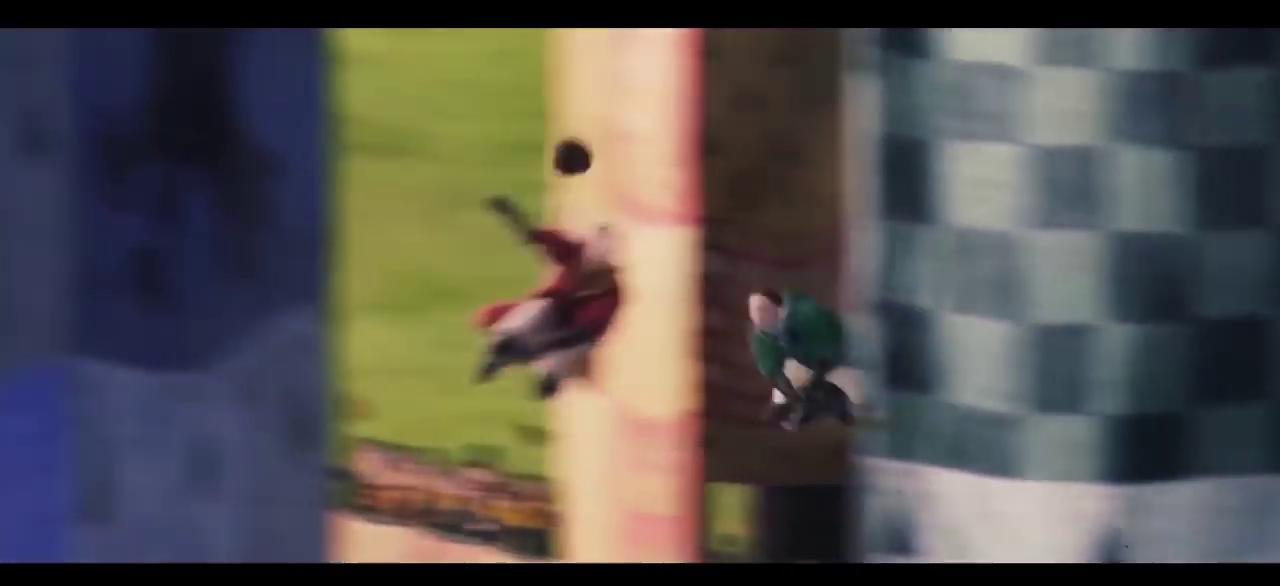quaffle: (551, 138, 594, 175)
